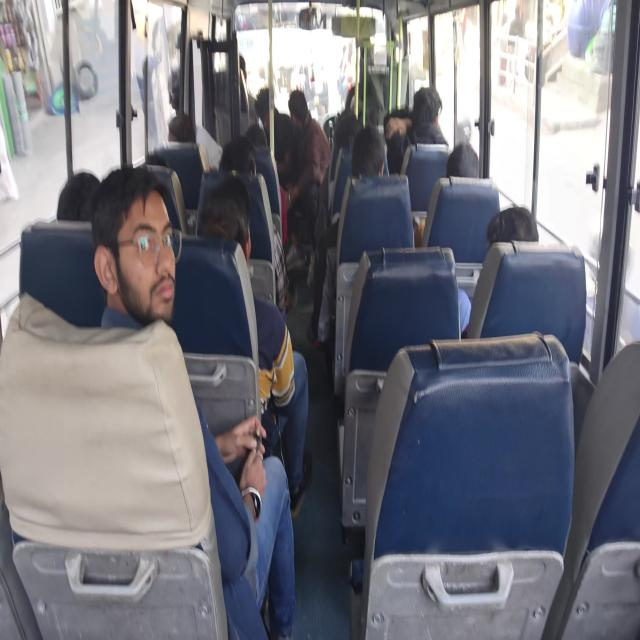person: (106, 182, 174, 302), (198, 182, 248, 260), (62, 174, 107, 234), (448, 144, 492, 194), (479, 218, 532, 254), (353, 140, 386, 178), (413, 91, 442, 134), (234, 122, 275, 151), (218, 146, 261, 173), (158, 119, 203, 142), (288, 91, 312, 124), (333, 116, 357, 146), (355, 37, 379, 66), (132, 152, 170, 170), (167, 76, 187, 106), (255, 86, 271, 114), (232, 53, 248, 75)
